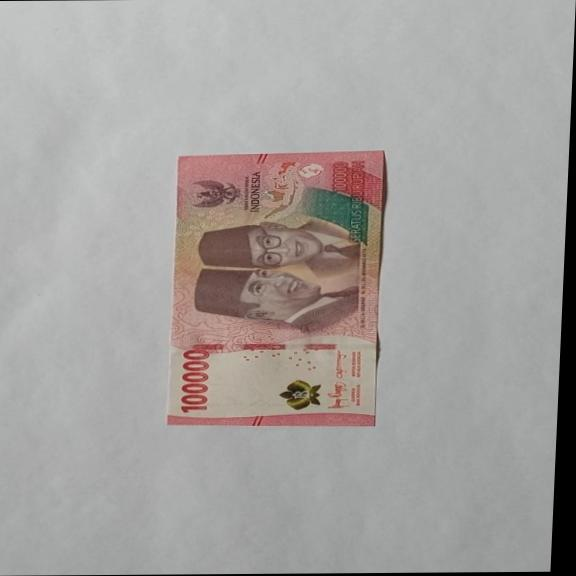Kertas: (163, 149, 389, 428), (176, 348, 212, 414)
